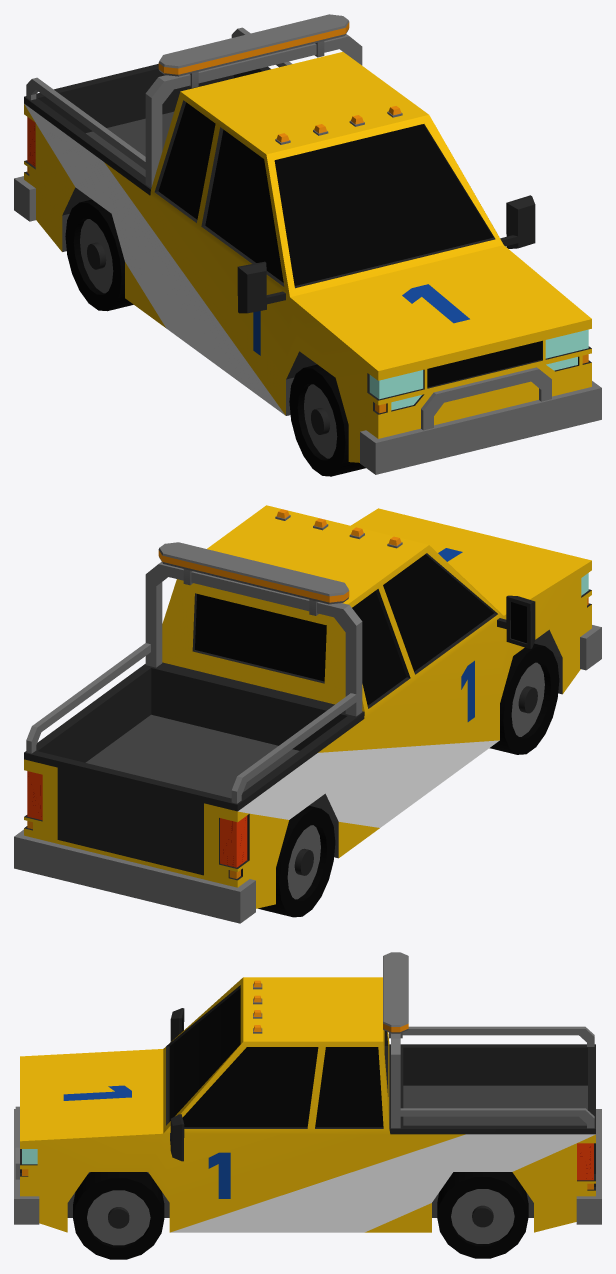
File: Support Truck.fbx
The picture shows the model from 3 angles, top to bottom: view 1: azimuth 30°, elevation 25°; view 2: azimuth 150°, elevation 25°; view 3: azimuth 270°, elevation 25°; orthographic projection. The views are drawn at different scales.
Visible parts, largest first — view 1: Support_Pickup; view 2: Support_Pickup; view 3: Support_Pickup.
Boxes of the visible parts, x1,y1,x2,y2 form: Support_Pickup: (14,14,601,476); Support_Pickup: (14,505,601,923); Support_Pickup: (14,952,601,1259).
Size of the model in its own units: 203 by 186 by 434.
Materials: 1 (1 with a texture image).
